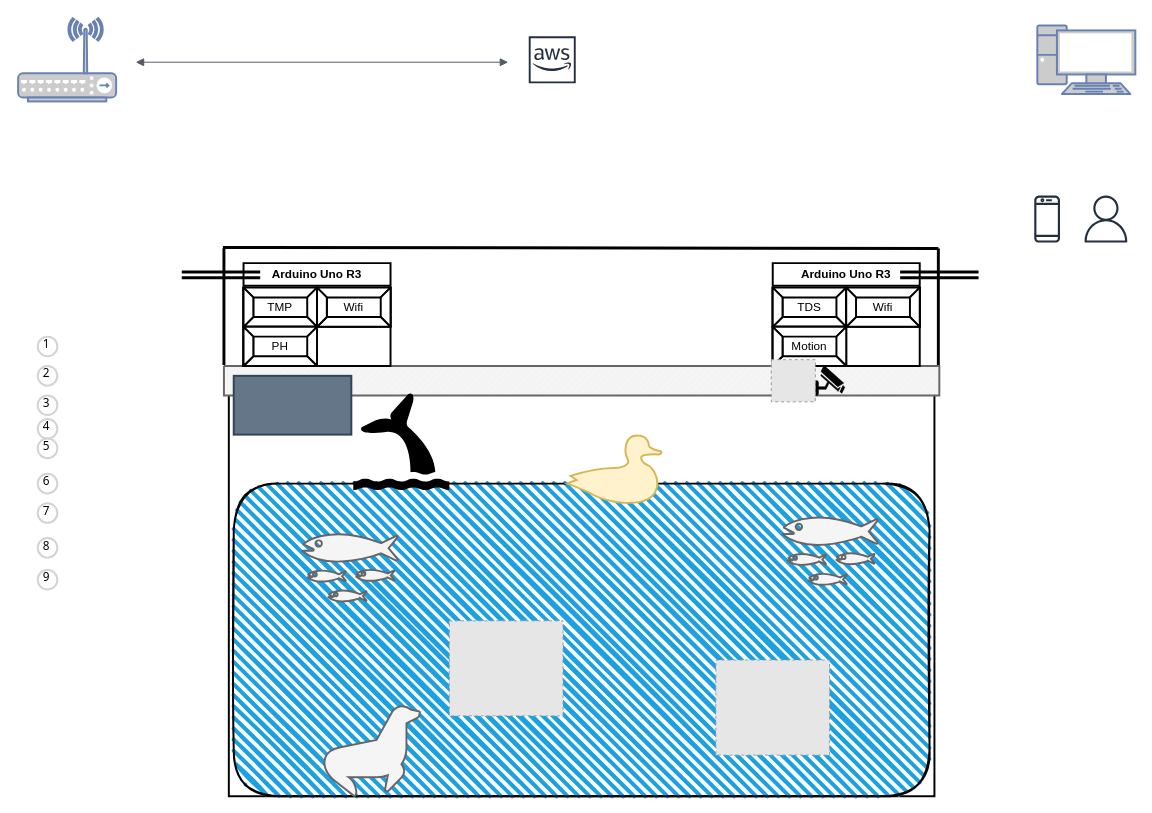
Image size: 1152x813. Some labels were removed from this diagram. Grey dashed boxes stand in for pictures. The centre of each missing label's shape, as x and y in pixels:
AWS Cloud: the point at 551,59
Mobile client: the point at 1046,218
User: the point at 1105,218
Water Temperature PH: the point at 292,404
